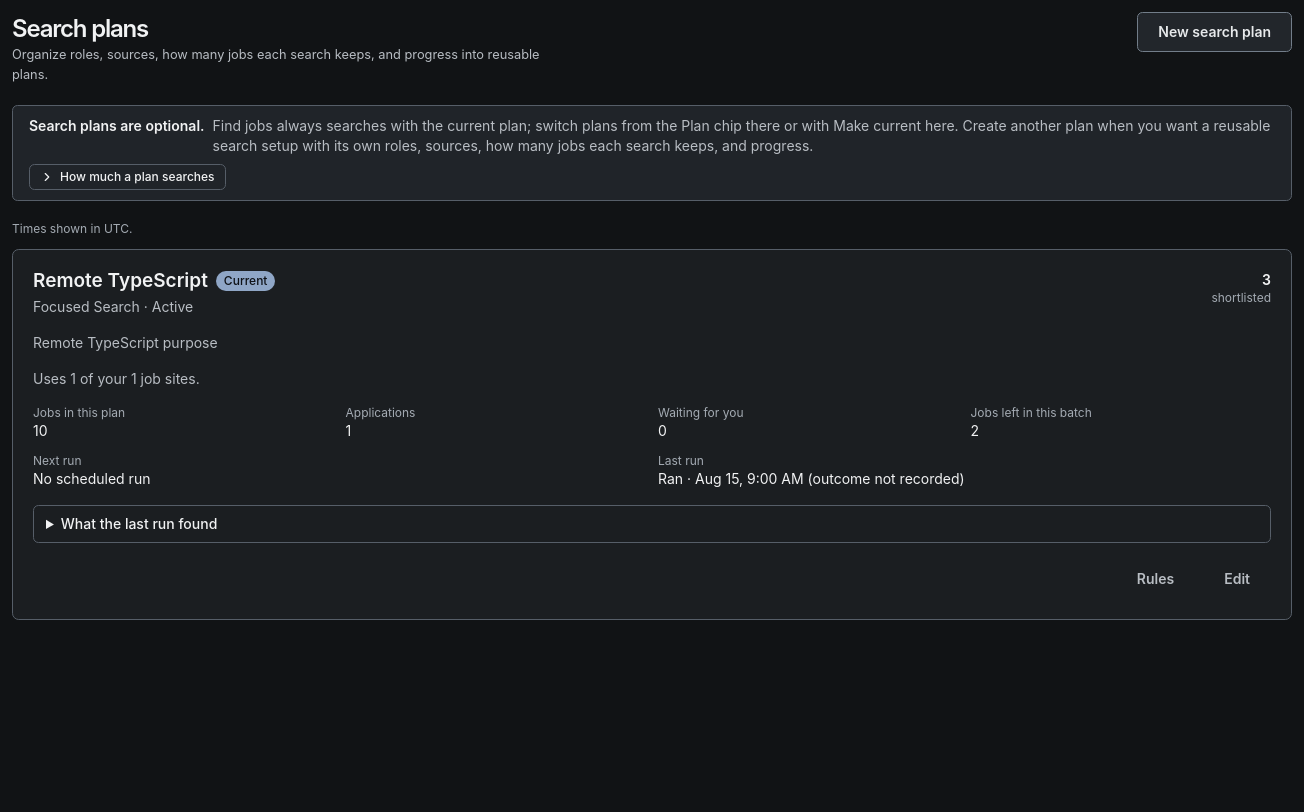
CampaignsScreen › renders the latest persisted digest counts and failed sources
The image size is (1304, 812).
Click the heading "What the last run found".
click(139, 523)  # box left=61, top=515, right=217, bottom=532
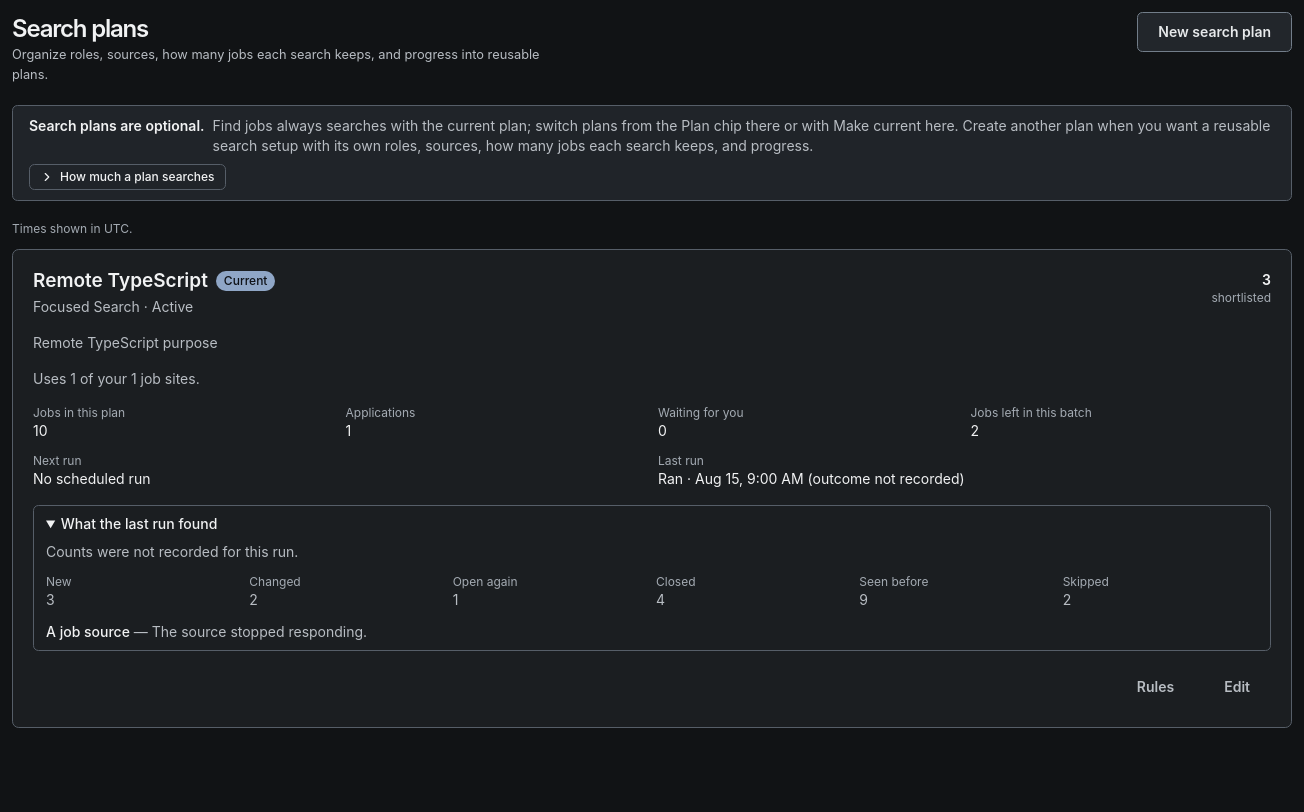
Now the text "3" below "Changed" is shown, box left=46, top=591, right=55, bottom=608
Now the text "9" is shown, box left=859, top=591, right=868, bottom=608
Now the text "4" is shown, box left=656, top=591, right=665, bottom=608
